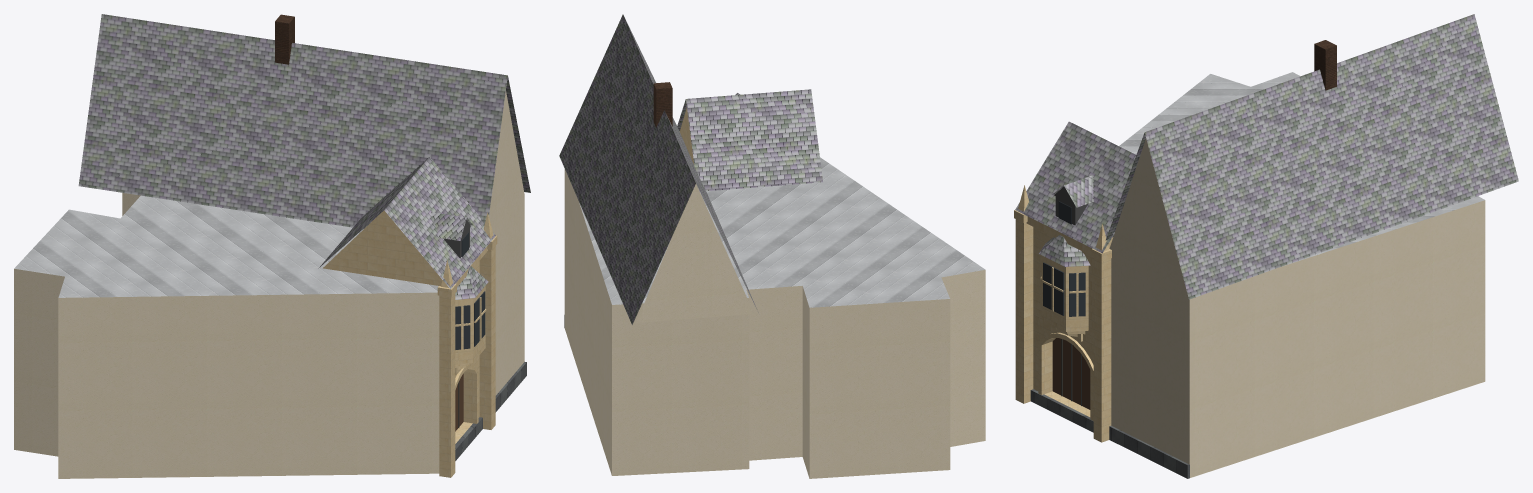
3 renders of one model, left to right at view 1: azimuth 30°, elevation 25°; view 2: azimuth 150°, elevation 25°; view 3: azimuth 270°, elevation 25°, orthographic. The views are drawn at different scales.
Parts seen in each view (by area): view 1: bldg_503176291_landmark; view 2: bldg_503176291_landmark; view 3: bldg_503176291_landmark.
Part boxes in pixels (box(x1,y1,x2,y2)): bldg_503176291_landmark: box(14, 14, 530, 478); bldg_503176291_landmark: box(559, 14, 985, 478); bldg_503176291_landmark: box(1014, 14, 1518, 478).
Bounding box in the file's own units: 21.51 × 15.4 × 20.16.
Materials: 10 (6 with a texture image).
